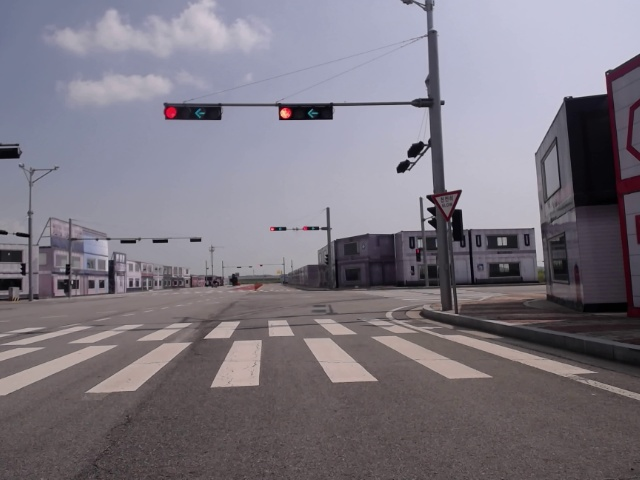left_green_4: (165, 106, 221, 120), (279, 105, 332, 119), (270, 227, 287, 231), (303, 226, 318, 230)
